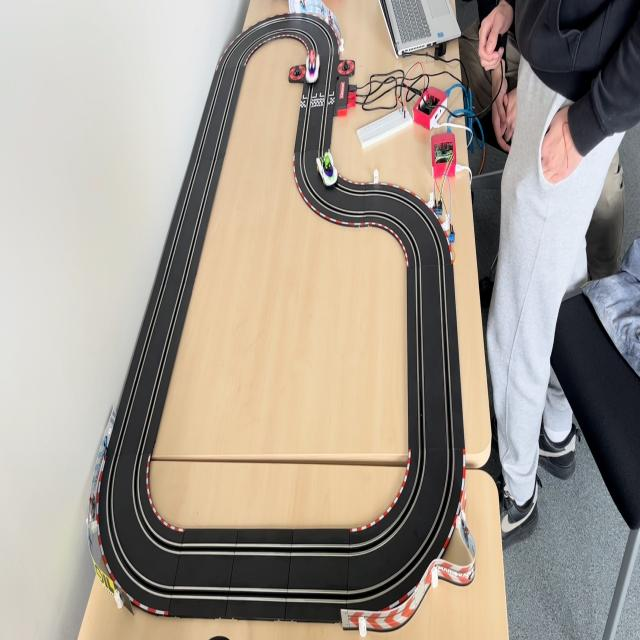mario: (305, 50, 321, 86)
yoshi: (315, 152, 337, 190)
